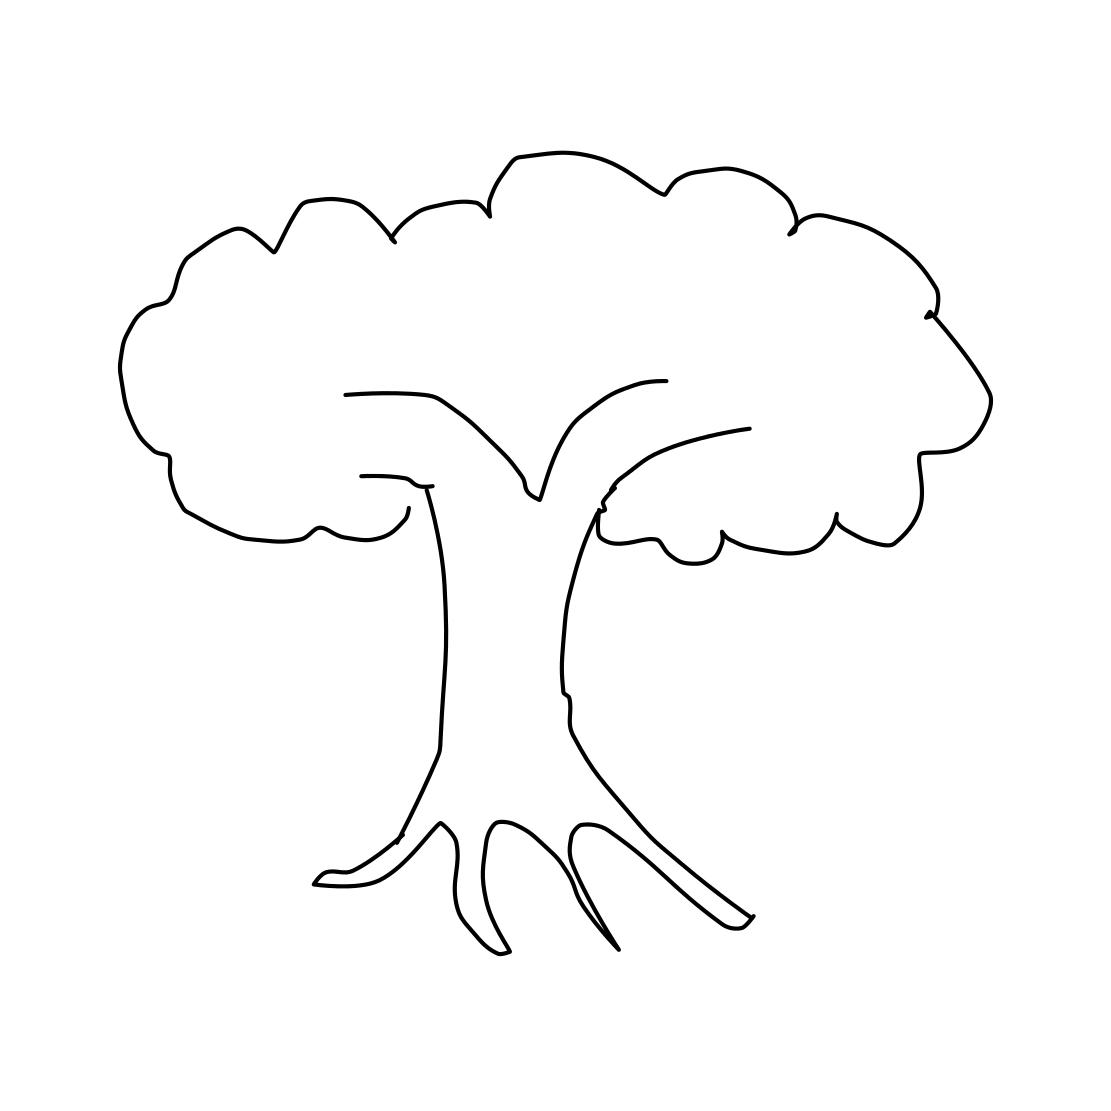Tree: (81, 109, 1008, 963)
